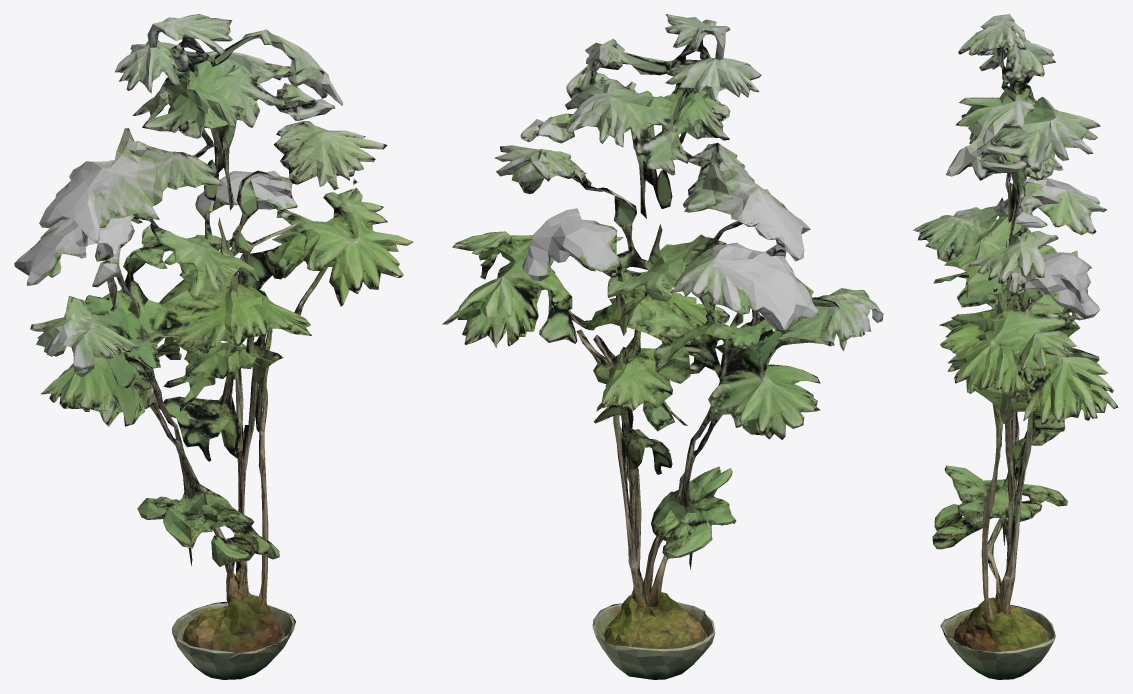
File: ast_55361e0c8415.glb
3 renders of one model, left to right at view 1: azimuth 30°, elevation 25°; view 2: azimuth 150°, elevation 25°; view 3: azimuth 270°, elevation 25°, orthographic. The views are drawn at different scales.
Parts seen in each view (by area): view 1: geometry_0; view 2: geometry_0; view 3: geometry_0.
Part boxes in pixels (bbox=[...]): geometry_0: bbox=[14, 14, 413, 679]; geometry_0: bbox=[442, 14, 883, 679]; geometry_0: bbox=[912, 14, 1118, 679].
Size of the model in its own units: 0.6084 by 0.9997 by 0.3018.
Materials: 1 (1 with a texture image).
